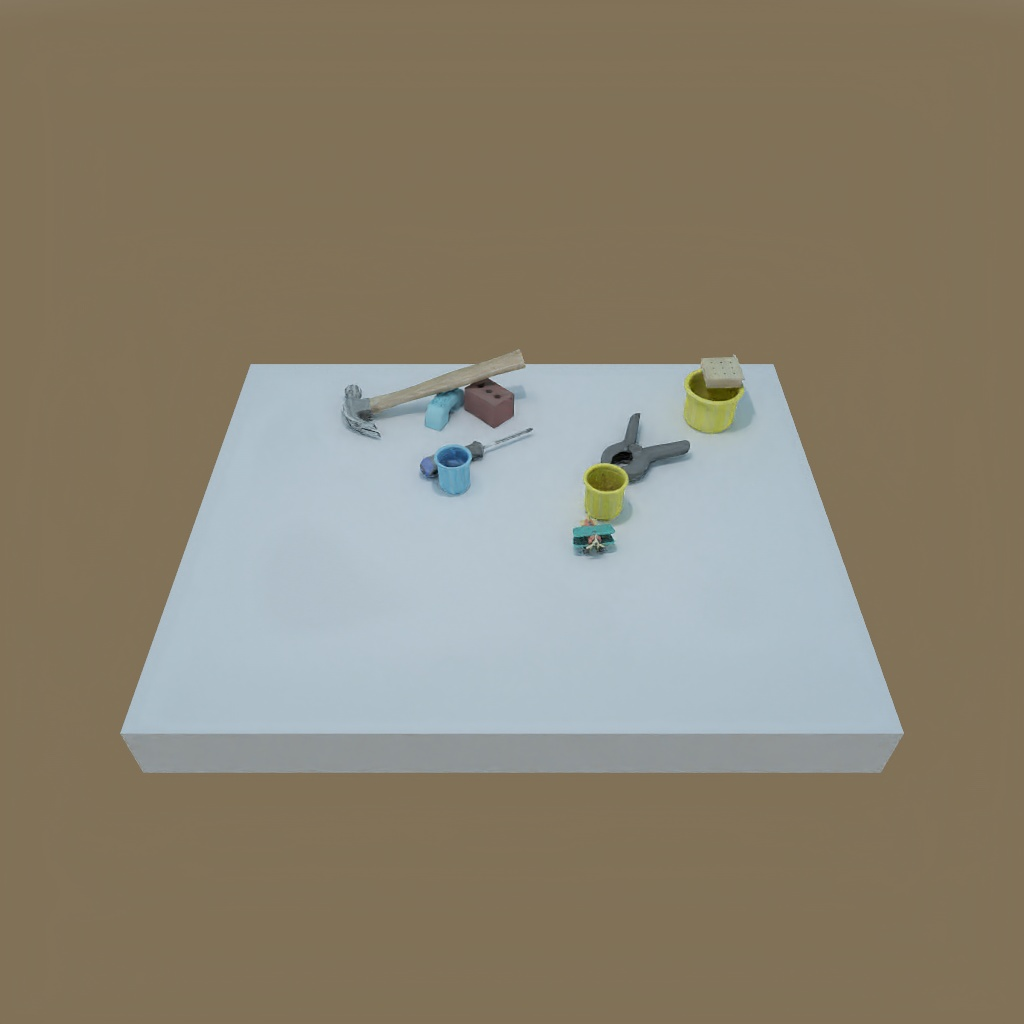hammer: (338, 350, 527, 438)
nine_hole_peg_test: (702, 355, 749, 388)
